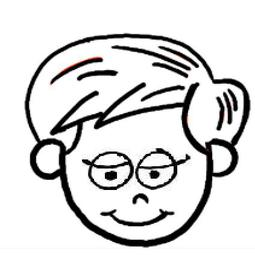ear: (22, 136, 65, 187), (206, 140, 241, 177)
eye: (134, 146, 192, 190), (78, 151, 136, 192)
mouth: (101, 206, 178, 228)
nose: (122, 191, 154, 208)
